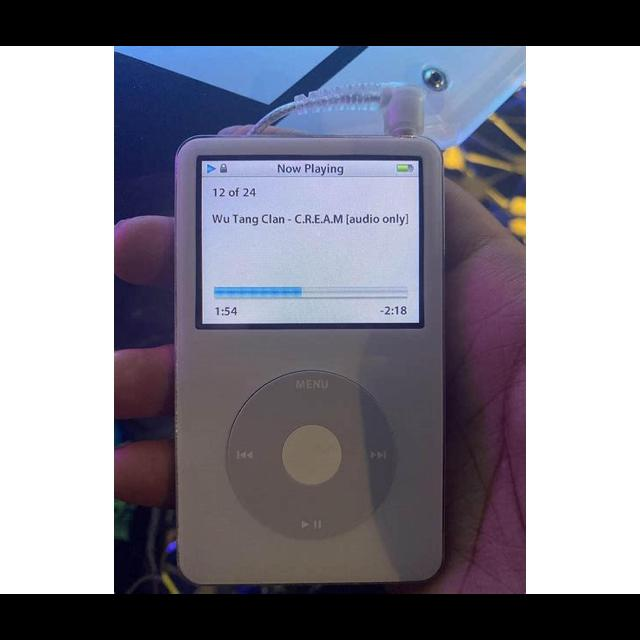Music-Player: (164, 78, 453, 594)
